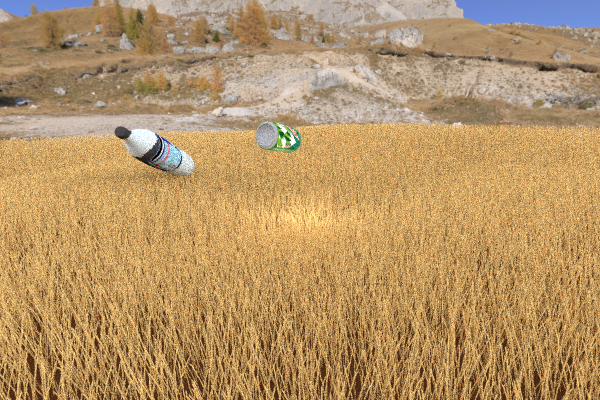bottle: (114, 126, 194, 177)
can: (275, 122, 383, 183), (255, 120, 301, 152)
